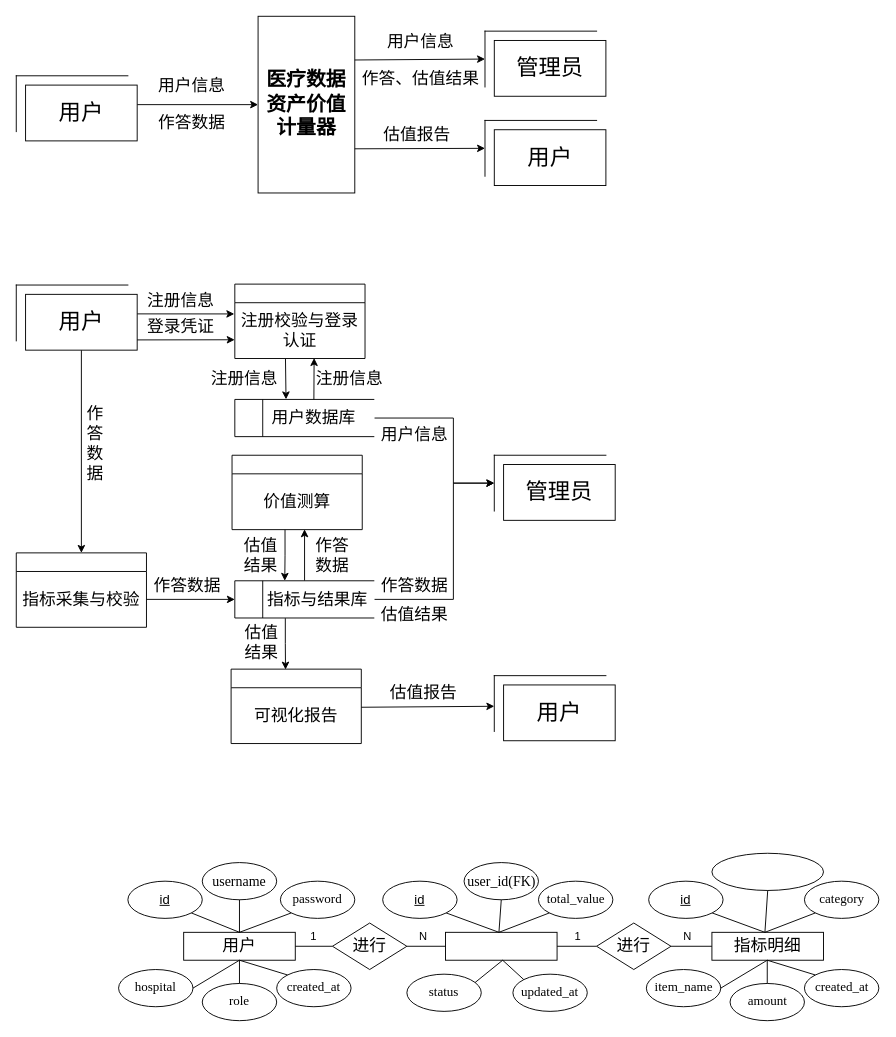
The diagram is 896 pixels wide and 1037 high, and some of its shapes have lost their labels. Each missing label, with the box of its shape:
D1: (234, 399, 374, 437)
D2: (234, 580, 374, 618)
evaluation _id(FK): (711, 852, 824, 890)
P1: (234, 283, 365, 359)
P2: (15, 552, 146, 627)
P3: (231, 454, 362, 530)
P4: (230, 668, 361, 744)
评估任务: (445, 931, 557, 960)
